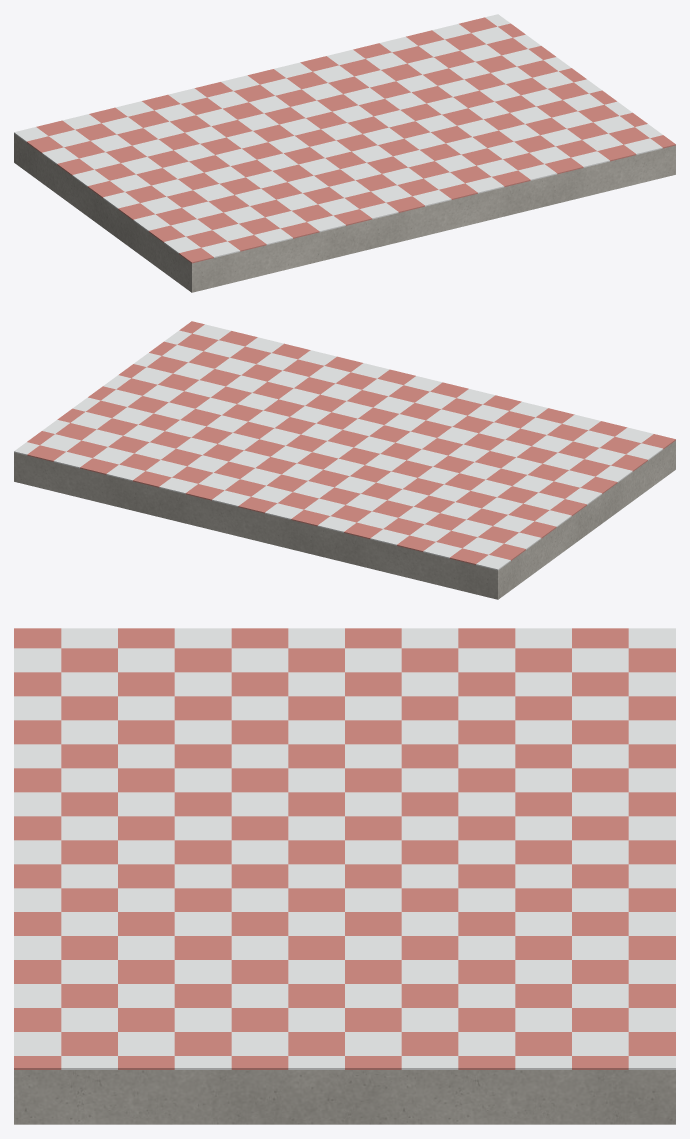
The model's file is ki_floor.glb.
3 renders of one model, top to bottom at view 1: azimuth 30°, elevation 25°; view 2: azimuth 150°, elevation 25°; view 3: azimuth 270°, elevation 25°, orthographic. The views are drawn at different scales.
Parts seen in each view (by area): view 1: ki_floor_tile_b, ki_floor_tile, ki_floor_concrete; view 2: ki_floor_tile, ki_floor_tile_b, ki_floor_concrete; view 3: ki_floor_tile, ki_floor_tile_b, ki_floor_concrete.
Part boxes in pixels (<box>): ki_floor_tile_b: <box>26,17,675,263</box>; ki_floor_tile: <box>14,14,662,257</box>; ki_floor_concrete: <box>14,133,675,292</box>; ki_floor_tile: <box>14,324,663,570</box>; ki_floor_tile_b: <box>27,321,675,564</box>; ki_floor_concrete: <box>14,440,675,599</box>; ki_floor_tile: <box>14,628,675,1069</box>; ki_floor_tile_b: <box>14,628,675,1069</box>; ki_floor_concrete: <box>14,1070,675,1124</box>.
Size of the model in its own units: 5.5 by 0.33 by 3.5.
Materials: 3 (1 with a texture image).
